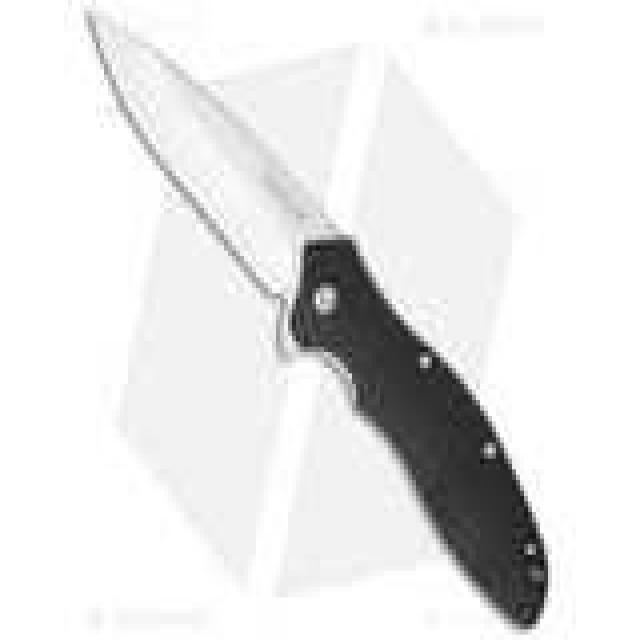knife: (80, 1, 555, 640)
